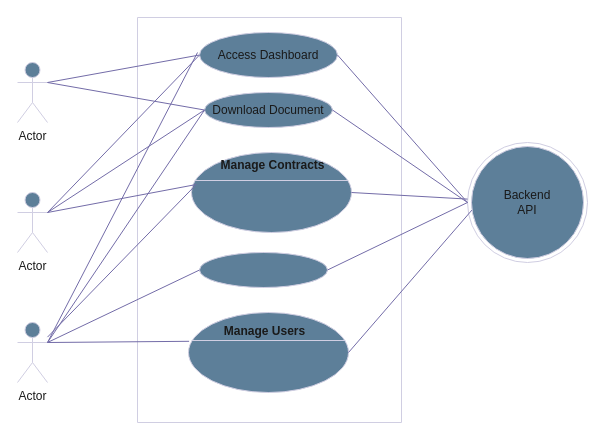
Image size: 605x440. Some labels were removed from this diagram. Each missing label, with the box of its shape:
Create Contract Types: (198, 252, 328, 288)
create, edit, delete, upload document: (190, 152, 352, 232)
role, and delete users: (188, 312, 348, 392)
